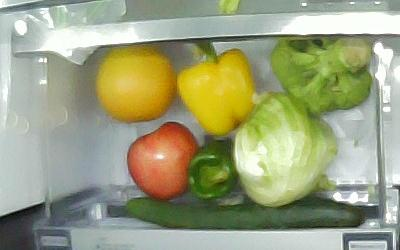apple: (127, 121, 199, 201)
broccoli: (271, 38, 372, 113)
cucumber: (124, 198, 365, 229)
grapefruit: (95, 46, 176, 123)
lettuce: (233, 91, 336, 207)
paprika: (176, 42, 256, 136), (188, 139, 238, 200)
